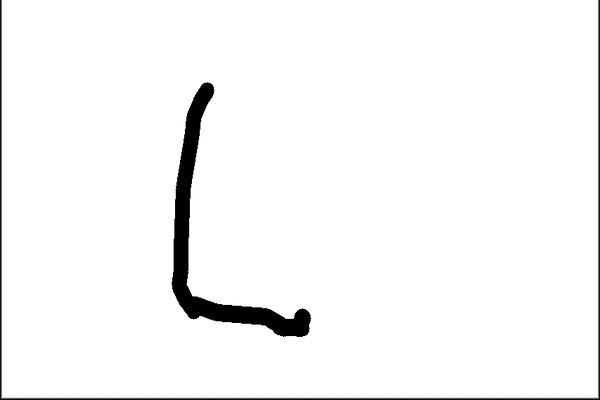L: (166, 76, 314, 341)
